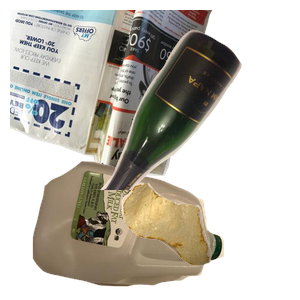glass: (87, 27, 300, 207)
paper: (10, 10, 215, 186)
plastic: (30, 159, 247, 300)
trash: (119, 181, 300, 300)
